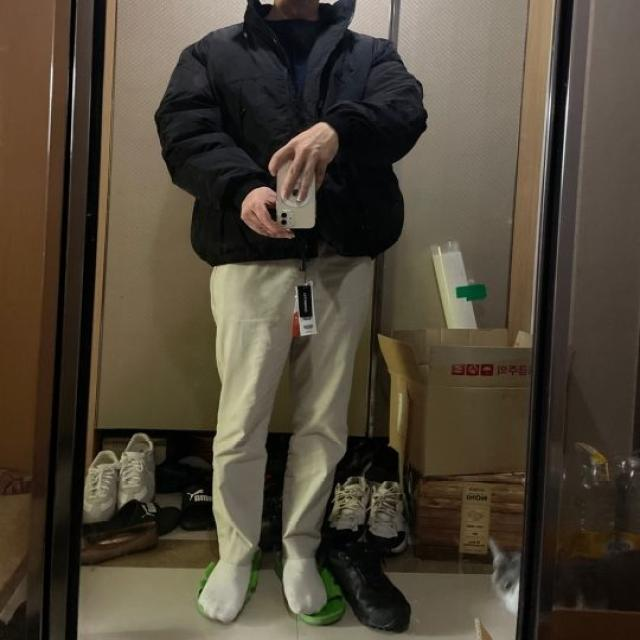cottonpants: (204, 244, 372, 570)
padding: (151, 0, 435, 269)
